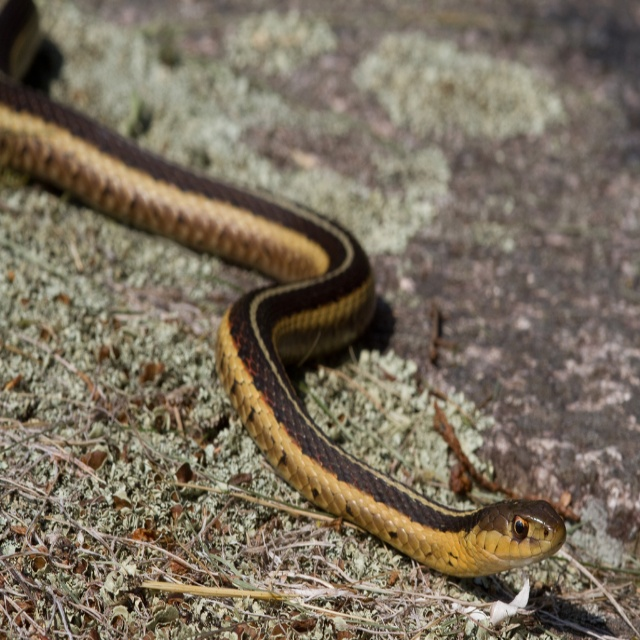Snake: (0, 0, 570, 579)
